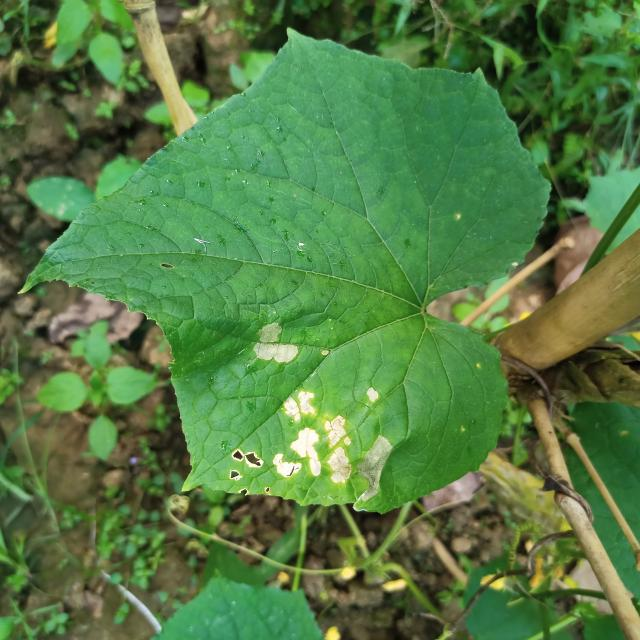disease_cucumber: (211, 314, 395, 503)
